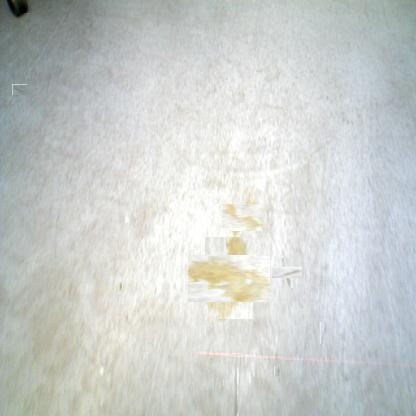liquid: (197, 245, 262, 311), (225, 200, 259, 235), (232, 353, 242, 416)
mark: (277, 263, 298, 283), (13, 83, 26, 96), (320, 322, 327, 344), (274, 365, 281, 377), (118, 282, 124, 294), (124, 311, 128, 323)
